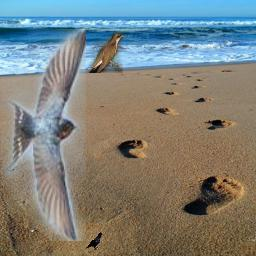Crow: (86, 232, 103, 250)
Cuckoo: (88, 32, 123, 73)
Swallow: (1, 29, 86, 241)
